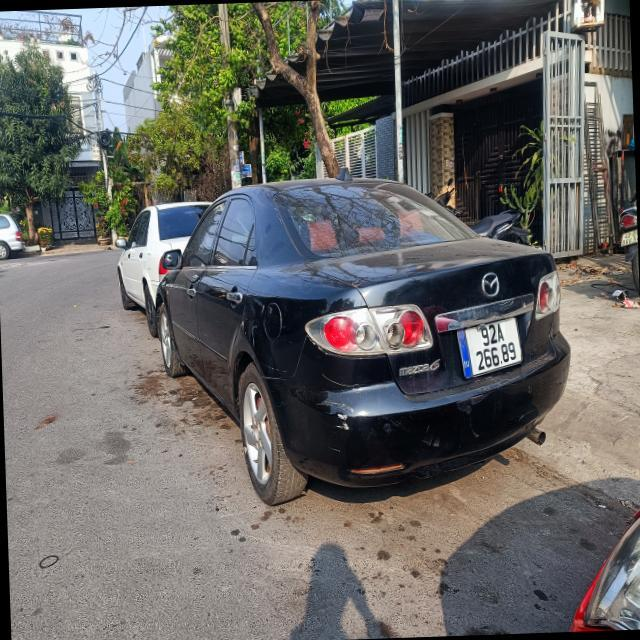car: (126, 166, 575, 508), (0, 208, 27, 267)
plate: (455, 315, 526, 380)
